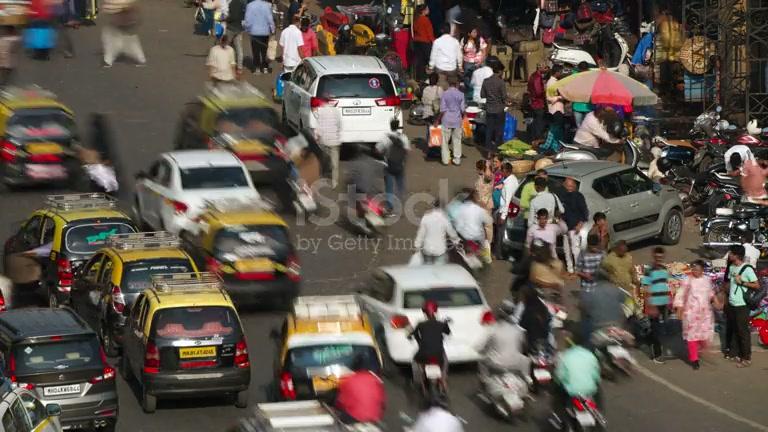car: (119, 276, 252, 414), (70, 233, 204, 361), (352, 261, 497, 379), (172, 77, 300, 210), (503, 160, 686, 250), (2, 194, 140, 309), (0, 305, 120, 430), (279, 54, 405, 154), (131, 148, 270, 238), (270, 298, 383, 404), (195, 202, 303, 311), (273, 330, 387, 404), (0, 107, 81, 190), (0, 83, 76, 139), (0, 376, 64, 432)
motorcycle: (473, 352, 536, 425), (698, 195, 768, 259)
pedestrian: (551, 329, 607, 426), (330, 350, 389, 432), (674, 259, 717, 371), (723, 244, 761, 368), (408, 302, 453, 397), (447, 190, 494, 269), (96, 0, 148, 69), (373, 117, 411, 207), (412, 196, 460, 266), (437, 75, 467, 166), (480, 63, 509, 154), (600, 239, 640, 302), (429, 23, 462, 92), (205, 33, 240, 82)
